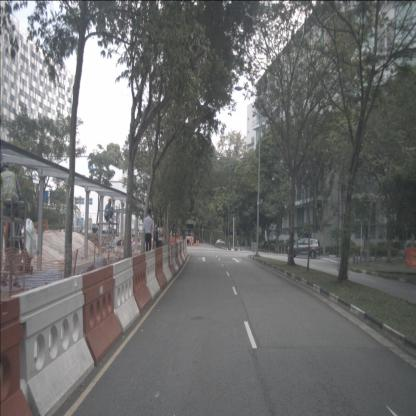human-pedestrian-adult: (143, 208, 153, 263), (153, 215, 164, 262)
movable_object-barrier: (11, 274, 95, 416), (80, 265, 122, 366), (0, 297, 34, 416), (108, 258, 140, 335), (130, 254, 152, 314), (143, 250, 161, 300), (152, 248, 168, 290), (160, 245, 172, 283), (166, 244, 176, 278), (169, 244, 179, 273), (405, 248, 416, 267), (174, 243, 181, 269), (176, 242, 183, 266), (180, 240, 186, 263), (179, 241, 184, 264), (182, 240, 187, 261), (183, 240, 188, 260), (185, 240, 188, 256)
movable_object-trafficcone: (410, 252, 413, 269)
vehicle-car: (287, 237, 322, 259), (216, 238, 225, 246)
vehicle-truck: (184, 223, 194, 245)
